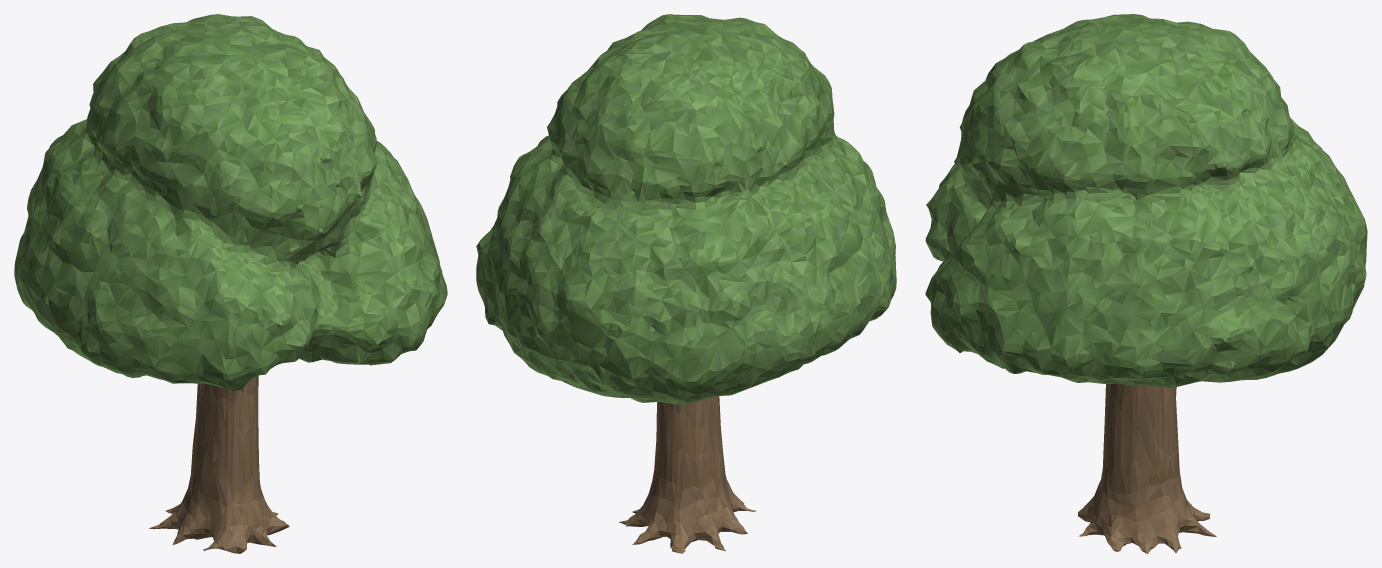
The model's file is oak_tree.glb.
3 renders of one model, left to right at view 1: azimuth 30°, elevation 25°; view 2: azimuth 150°, elevation 25°; view 3: azimuth 270°, elevation 25°, orthographic. The views are drawn at different scales.
Parts seen in each view (by area): view 1: world; view 2: world; view 3: world.
Part boxes in pixels (x1=…): world: x1=14, y1=14, x2=447, y2=553; world: x1=476, y1=14, x2=896, y2=553; world: x1=925, y1=14, x2=1367, y2=553.
Bounding box in the file's own units: 3.2 × 4.2 × 3.38.
